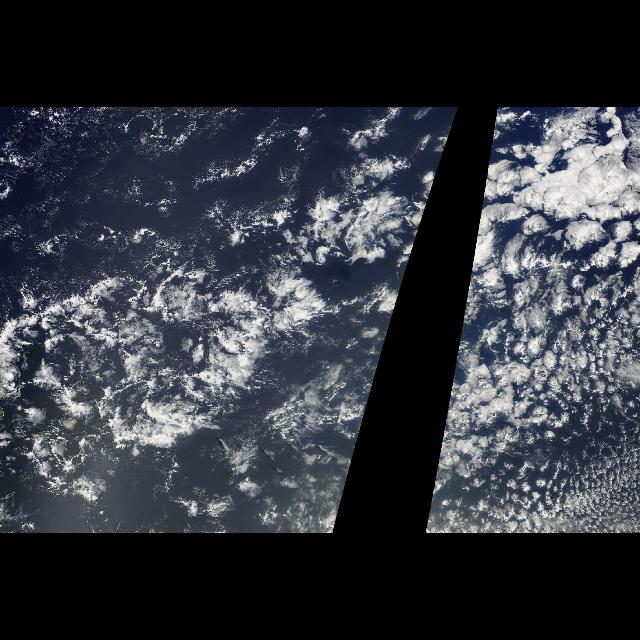Flower: (438, 110, 640, 492), (357, 169, 441, 443)
Gravel: (29, 223, 300, 479)
Sugar: (0, 109, 288, 288)
